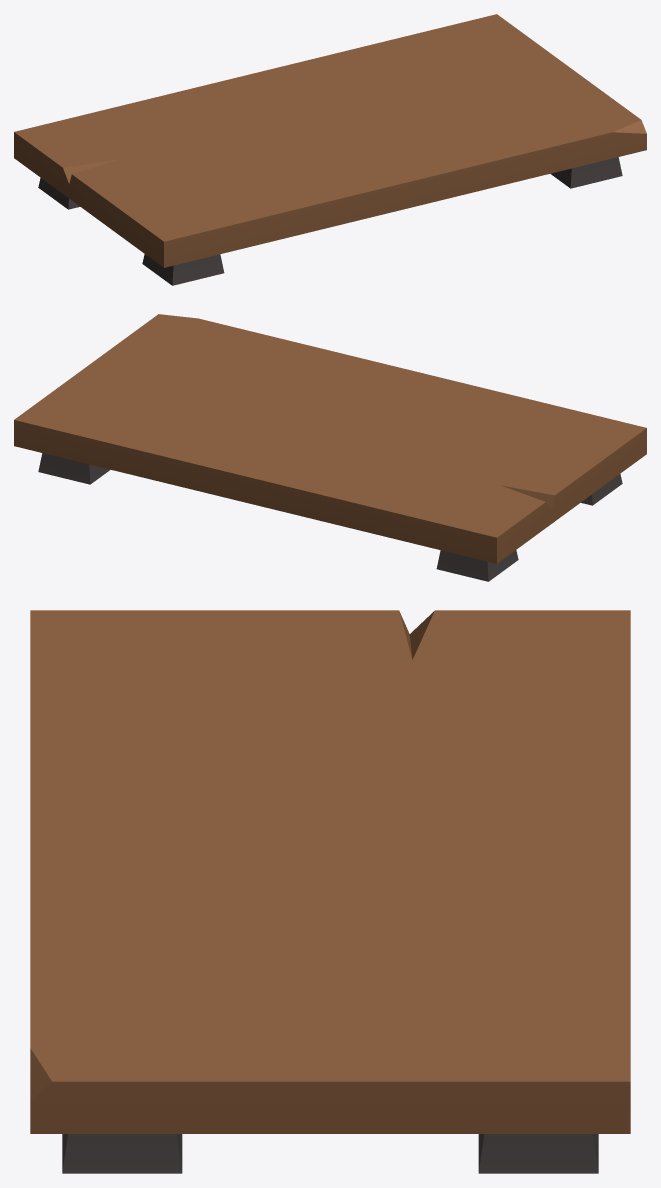
Rendered from WoodenBasePlate.fbx.
3 renders of one model, top to bottom at view 1: azimuth 30°, elevation 25°; view 2: azimuth 150°, elevation 25°; view 3: azimuth 270°, elevation 25°, orthographic. The views are drawn at different scales.
Visible parts, largest first — view 1: WoodenBasePlate; view 2: WoodenBasePlate; view 3: WoodenBasePlate.
Part boxes in pixels (box(x1,y1,x2,y2)): WoodenBasePlate: box(14, 14, 646, 285); WoodenBasePlate: box(14, 314, 646, 581); WoodenBasePlate: box(30, 610, 630, 1173).
Bounding box in the file's own units: 31.75 × 3.39 × 17.09.
